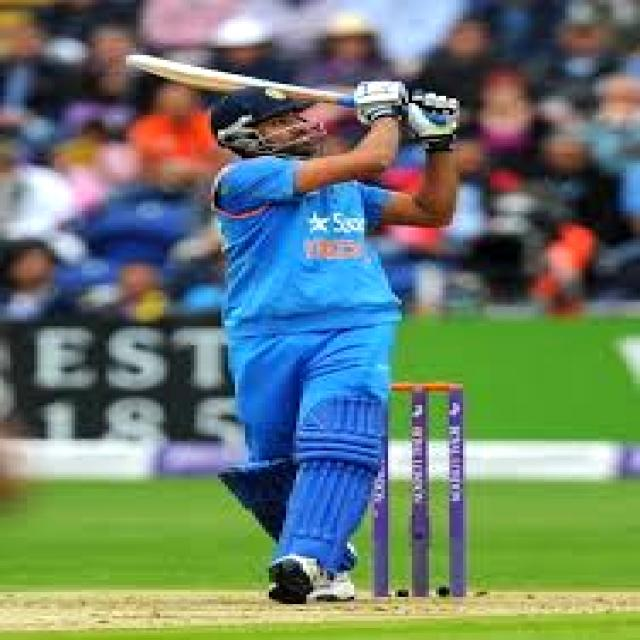toe: (119, 50, 149, 70)
